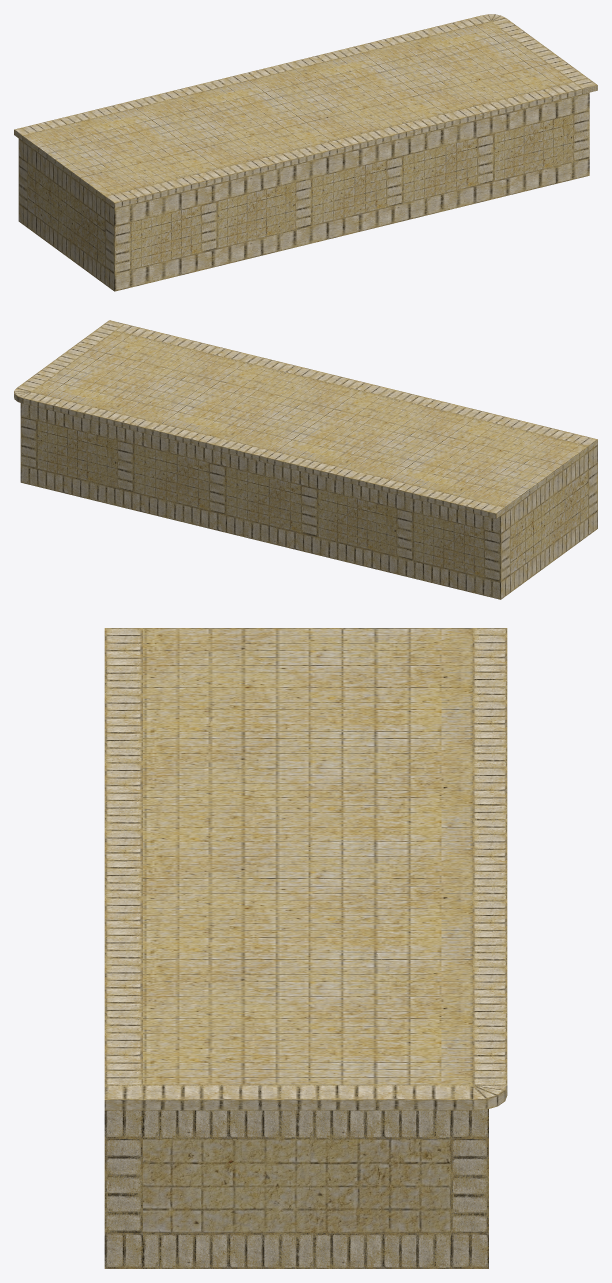
File: tutorial_structure_block07.dae
3 renders of one model, top to bottom at view 1: azimuth 30°, elevation 25°; view 2: azimuth 150°, elevation 25°; view 3: azimuth 270°, elevation 25°, orthographic. The views are drawn at different scales.
Visible parts, largest first — view 1: tutorial_structure_block07; view 2: tutorial_structure_block07; view 3: tutorial_structure_block07.
Boxes of the visible parts, box(x1,y1,x2,y2) form: tutorial_structure_block07: box(14, 14, 597, 291); tutorial_structure_block07: box(14, 320, 597, 599); tutorial_structure_block07: box(104, 628, 507, 1268).
Bounding box in the file's own units: 21.77 × 7.85 × 3.81.
Materials: 3 (3 with a texture image).
